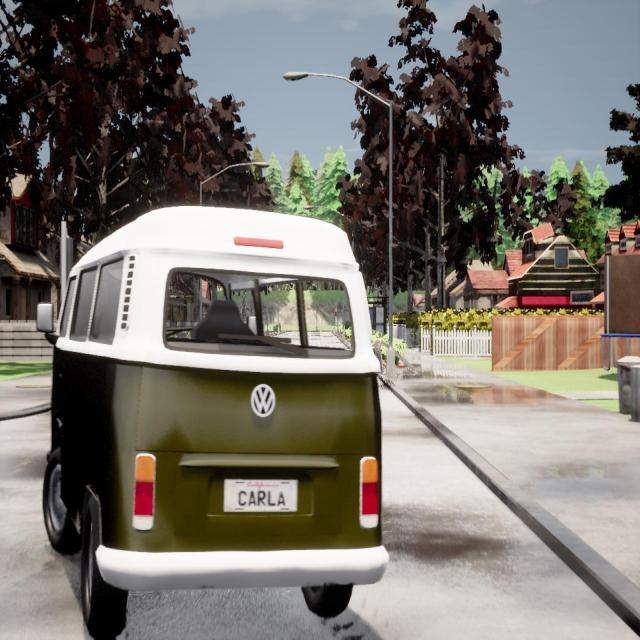Vehicle: (44, 206, 388, 637)
traffic_light: (59, 237, 72, 276), (335, 309, 337, 316)
